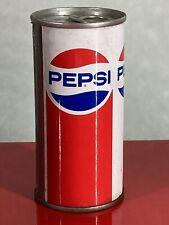metal: (31, 7, 127, 212)
